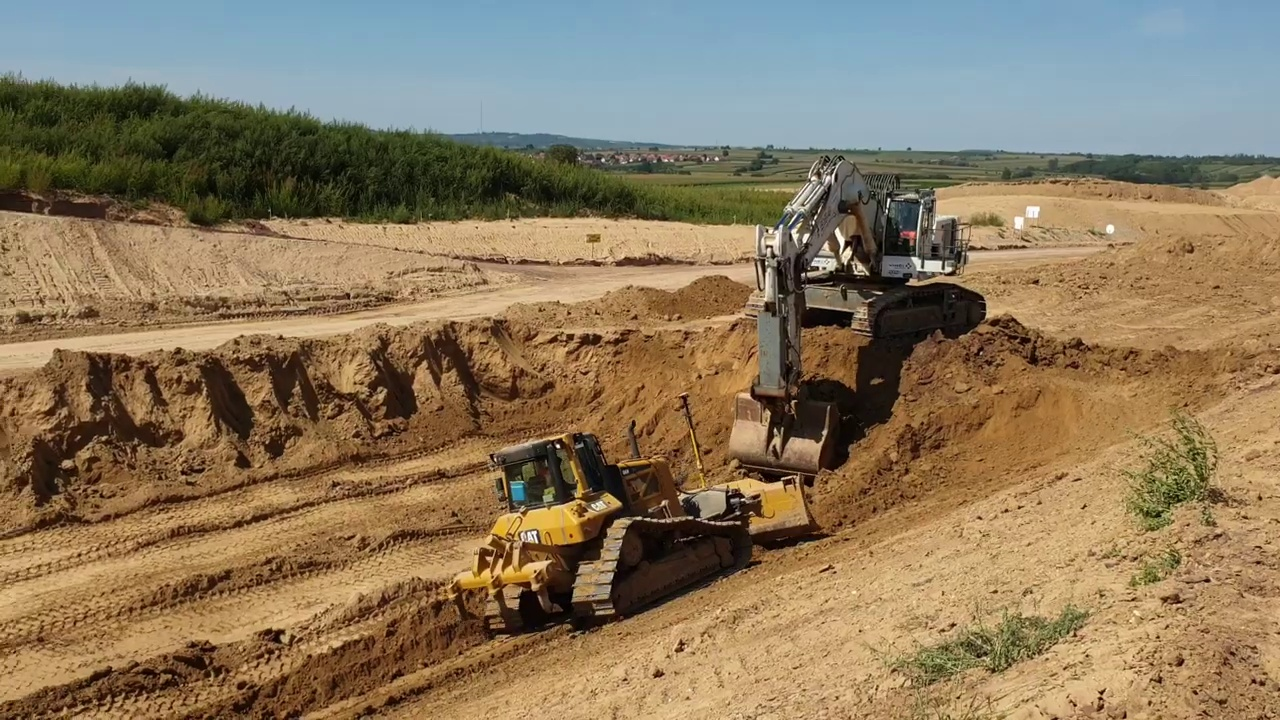bulldozer: (449, 392, 823, 637)
excavator: (723, 152, 988, 478)
